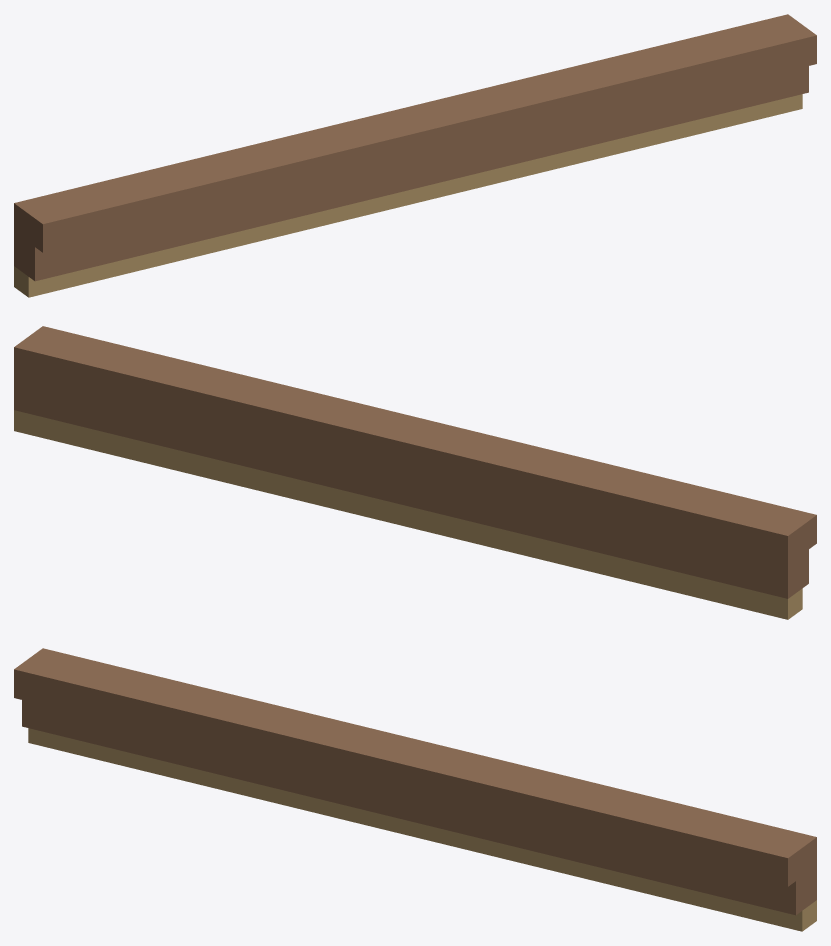
Rendered from corridor_cornice.glb.
The picture shows the model from 3 angles, top to bottom: view 1: azimuth 30°, elevation 25°; view 2: azimuth 150°, elevation 25°; view 3: azimuth 330°, elevation 25°; orthographic projection.
Parts seen in each view (by area): view 1: corridor_cornice; view 2: corridor_cornice; view 3: corridor_cornice.
Part boxes in pixels (x1=…): corridor_cornice: x1=14, y1=14, x2=816, y2=297; corridor_cornice: x1=14, y1=326, x2=816, y2=619; corridor_cornice: x1=14, y1=648, x2=816, y2=931.
Bounding box in the file's own units: 0.85 × 0.088 × 0.055.
